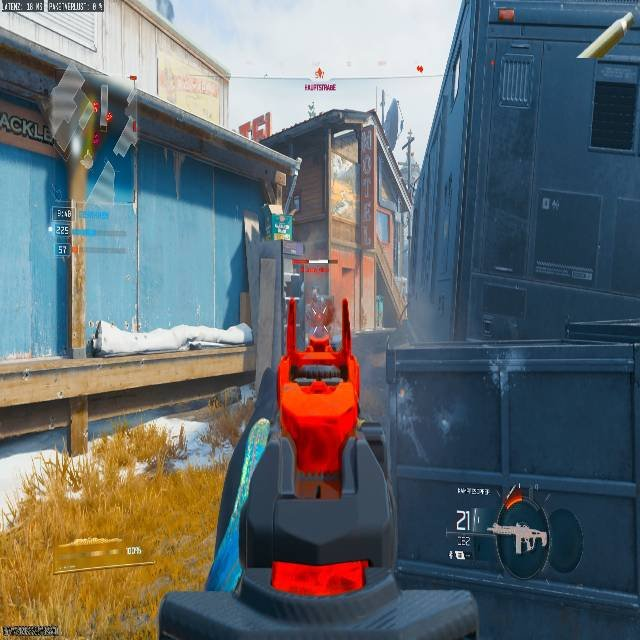player: (291, 277, 330, 348), (307, 286, 326, 337)
